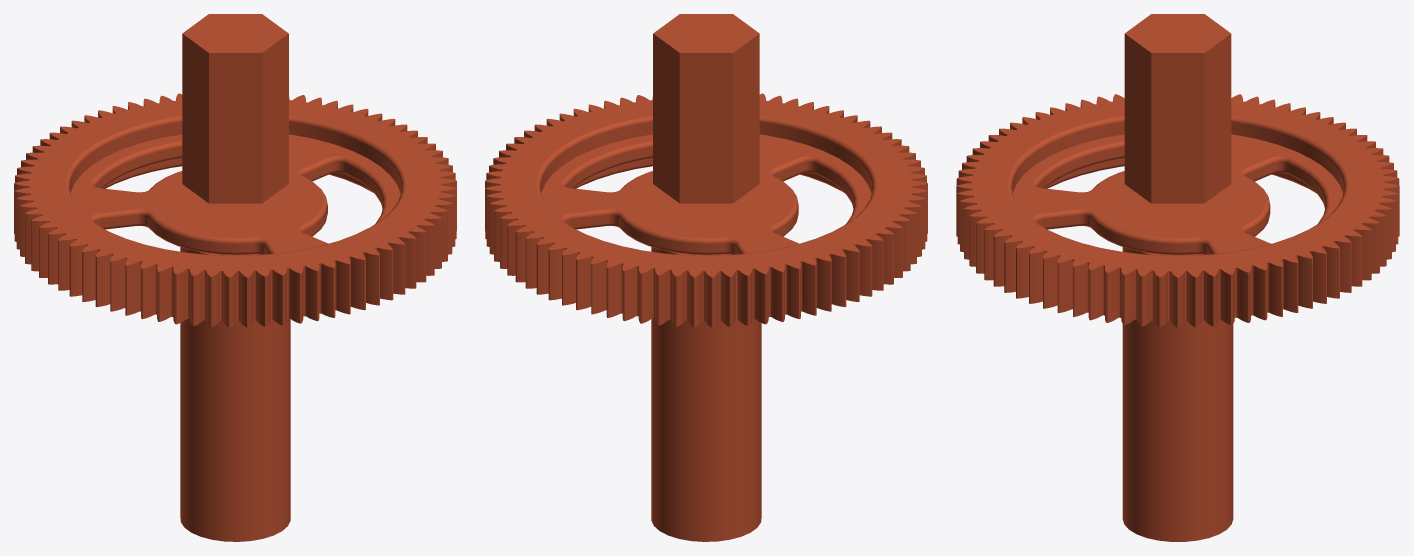
File: Arm gear.gltf
3 views of the same model, side by side, from view 1: azimuth 30°, elevation 25°; view 2: azimuth 150°, elevation 25°; view 3: azimuth 270°, elevation 25° (orthographic).
Parts seen in each view (by area): view 1: Solid1; view 2: Solid1; view 3: Solid1.
Boxes of the visible parts, <box> form: Solid1: <box>14,14,456,541</box>; Solid1: <box>485,14,927,541</box>; Solid1: <box>956,14,1399,541</box>.
Size of the model in its own units: 0.024 by 0.029 by 0.024.
